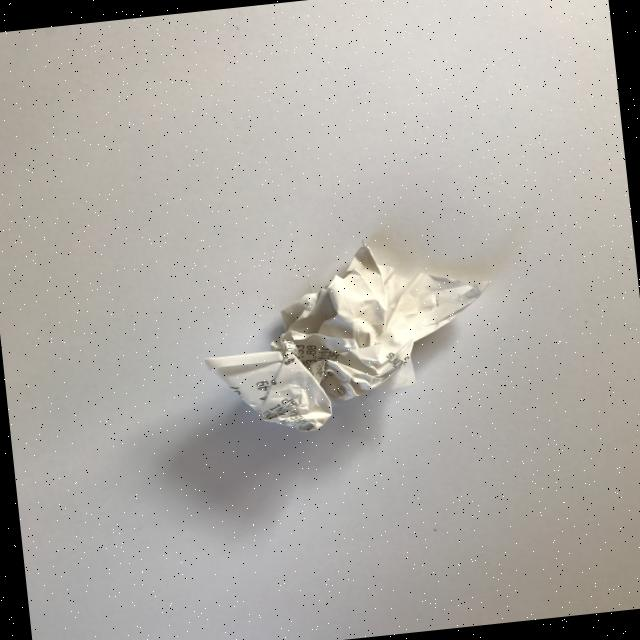paper: (192, 226, 502, 442)
